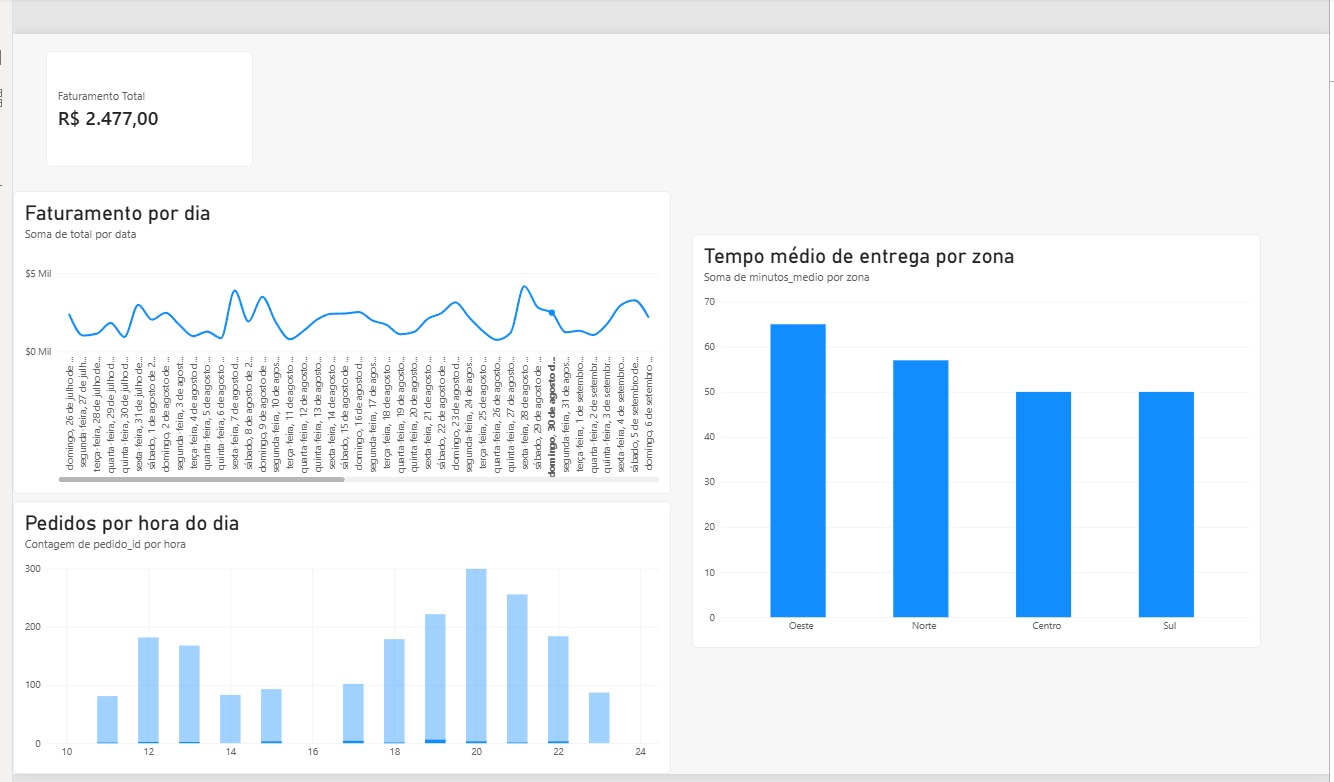

The dashboard page shown, as its layout file describes it:
{"tool":"powerbi","page":{"name":"Página 1","canvas":[1920,1080],"ordinal":0},"visuals":[{"type":"cardVisual","fields":{"Data":["public vw_pedidos_detalhe.Faturamento Total"]},"box":[48.1,24.8,302,169.2],"z":0},{"type":"lineChart","title":"Faturamento por dia","fields":{"Category":["public vw_pedidos_detalhe.data"],"Y":["Sum(public vw_pedidos_detalhe.total)"]},"box":[0,229.1,960,442.1],"z":1},{"type":"clusteredColumnChart","title":"Pedidos por hora do dia","fields":{"Category":["public vw_pedidos_detalhe.hora"],"Y":["CountNonNull(public vw_pedidos_detalhe.pedido_id)"]},"box":[0,681.3,960,398.3],"z":2},{"type":"clusteredColumnChart","title":"Tempo médio de entrega por zona","fields":{"Category":["public vw_entregas_zona.zona"],"Y":["Sum(public vw_entregas_zona.minutos_medio)"]},"box":[990.6,291.8,830.2,604],"z":3}]}

Visuals, with their boxes on the page's 1920x1080 design canvas (x1, y1, x2, y2). These are canvas units, not pixel positions in the 1334x782 screenshot, which may show the page scaled, cropped or inside an application window:
cardVisual - public vw_pedidos_detalhe.Faturamento Total: bbox=[48, 25, 350, 194]
"Faturamento por dia" lineChart: bbox=[0, 229, 960, 671]
"Pedidos por hora do dia" clusteredColumnChart: bbox=[0, 681, 960, 1080]
"Tempo médio de entrega por zona" clusteredColumnChart: bbox=[991, 292, 1821, 896]
